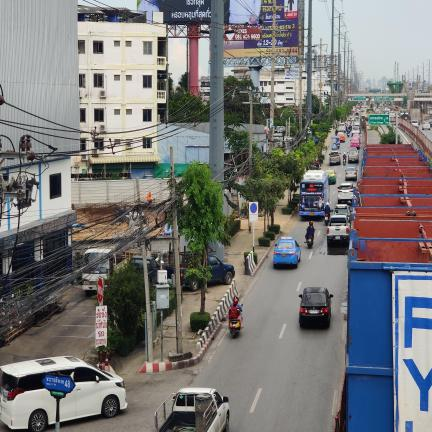bus: (299, 170, 330, 216)
car: (299, 287, 333, 327), (337, 182, 354, 203), (332, 204, 351, 221), (329, 150, 341, 165), (348, 147, 359, 163), (345, 167, 357, 180), (337, 132, 345, 142), (422, 121, 430, 130)
human: (229, 0, 261, 24), (229, 296, 242, 328), (304, 221, 315, 243), (324, 202, 331, 216), (147, 191, 152, 205)
motorbike: (229, 318, 242, 337), (306, 235, 313, 248), (324, 213, 329, 225), (314, 164, 321, 170), (343, 158, 346, 165), (347, 131, 350, 137), (241, 304, 243, 306)
pickup: (155, 388, 230, 432), (207, 254, 235, 285), (327, 215, 351, 244), (180, 267, 197, 291), (147, 257, 158, 286), (130, 256, 143, 272), (165, 266, 174, 278), (411, 120, 419, 128)
taxi: (273, 237, 300, 268), (325, 169, 336, 184), (350, 137, 360, 149), (351, 133, 361, 144)
truck: (82, 248, 127, 296), (147, 257, 157, 285), (131, 256, 142, 269), (410, 108, 420, 121), (337, 401, 339, 406), (341, 304, 343, 304)
van: (0, 356, 127, 432)
